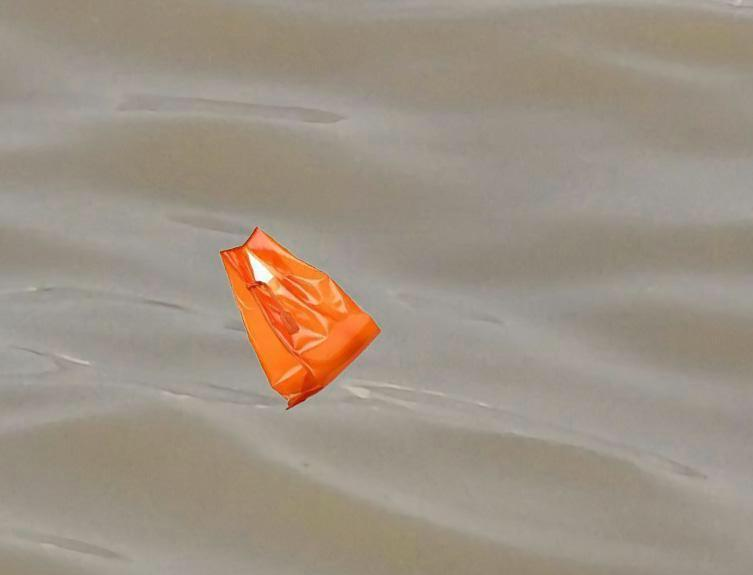Trash: (217, 230, 380, 414)
